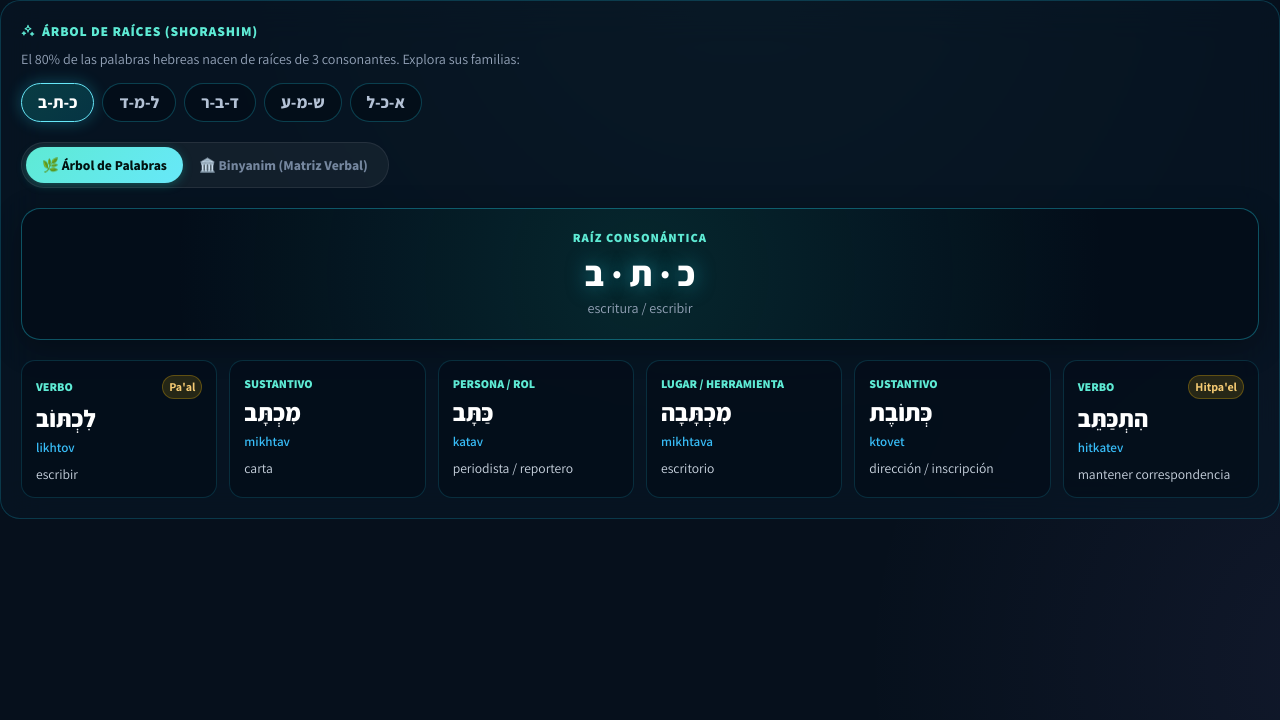
Test: ShoreshTreeViewer › allows switching to Binyanim matrix tab
Click the button "🏛️ Binyanim (Matriz Verbal)". click: (283, 165)
box: [183,147,384,183]
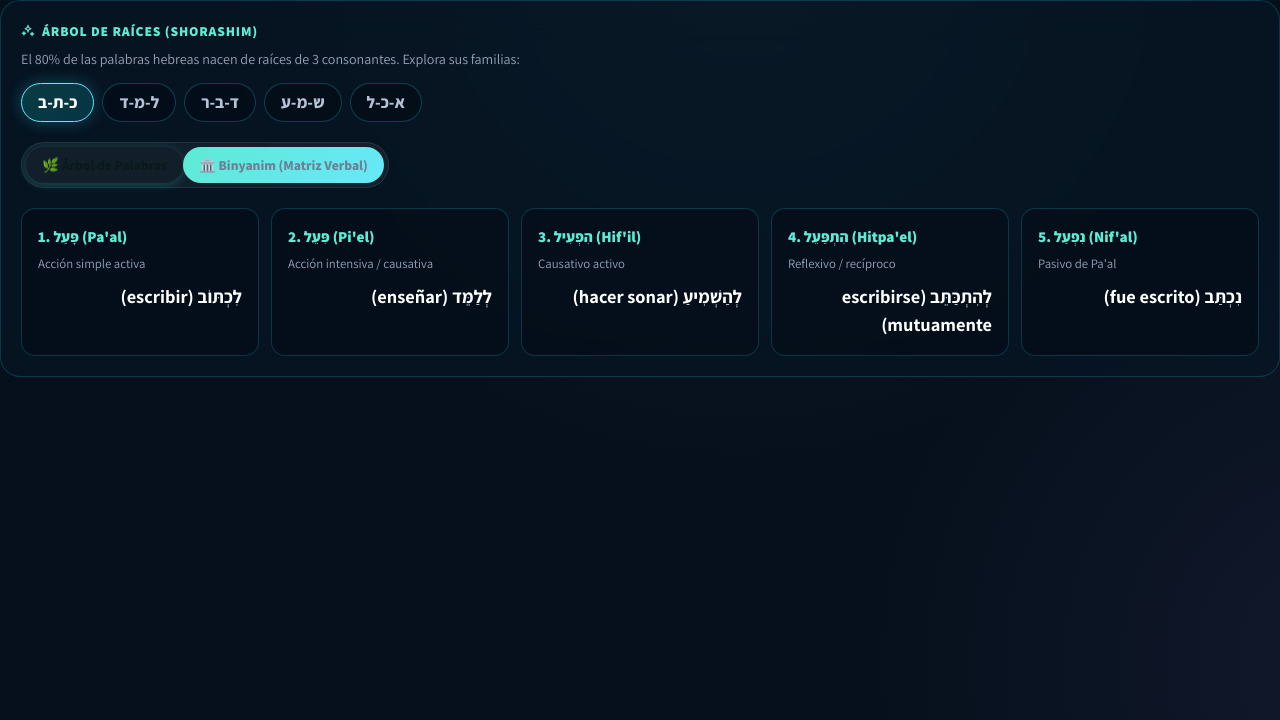
Expected: the text "1. פָּעַל (Pa'al)" is shown, [38,226,127,246]
Expected: the text "2. פִּעֵל (Pi'el)" is shown, [288,226,374,246]
